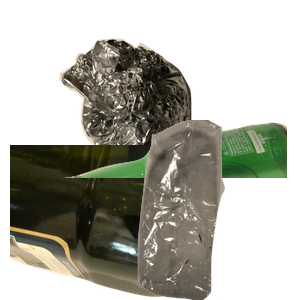glass: (60, 120, 300, 300)
metal: (57, 36, 241, 216)
plastic: (10, 145, 213, 300)
trash: (114, 120, 300, 300)
